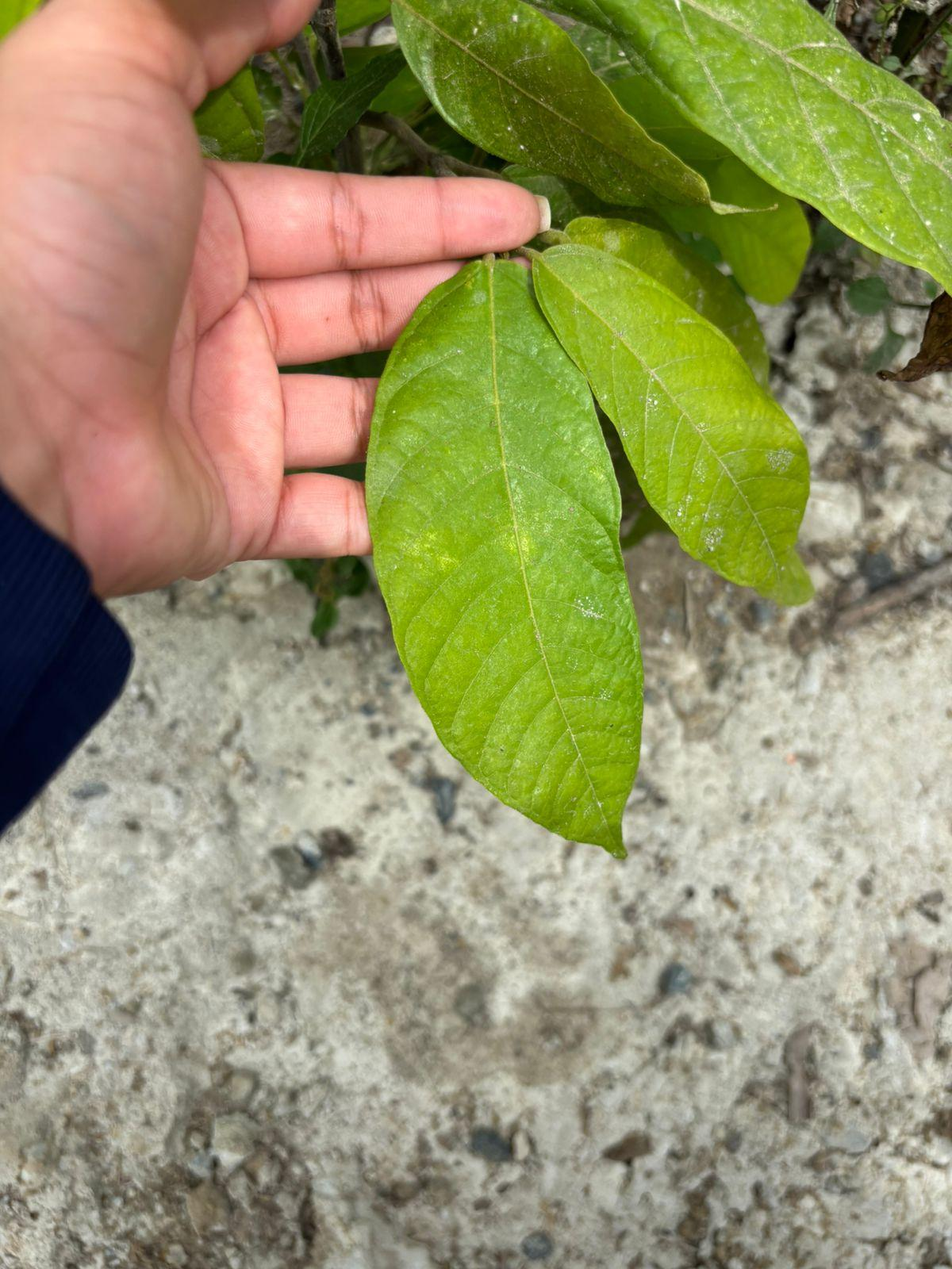deficiencia_nitrogeno: (533, 245, 808, 601)
